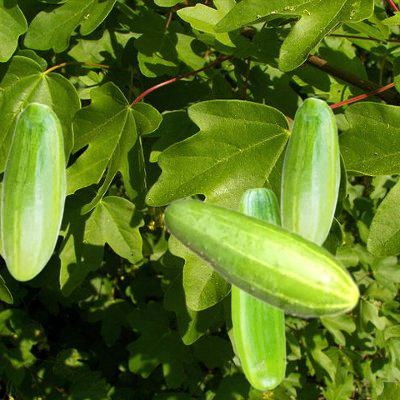cucumber: (162, 197, 360, 319), (0, 102, 65, 280), (231, 187, 285, 389), (280, 97, 339, 243)
